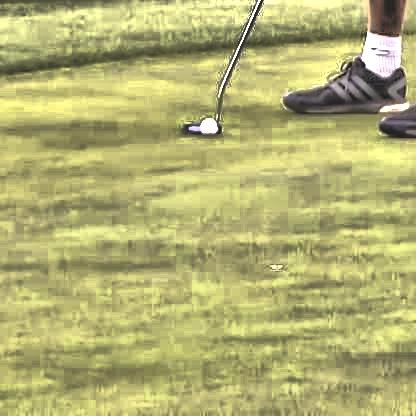golfball: (197, 116, 216, 134)
